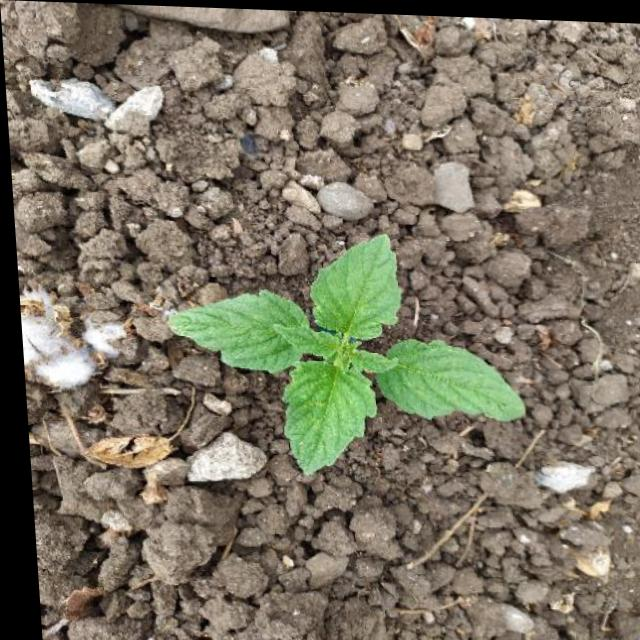crop: (141, 216, 530, 483)
